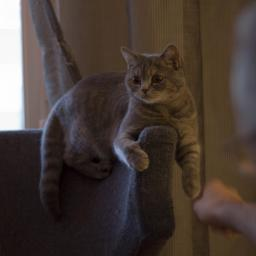catnose: (140, 86, 149, 94)
